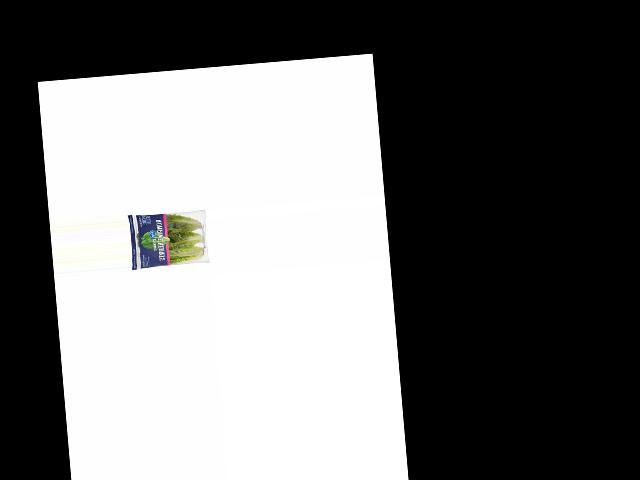lettuce: (129, 206, 207, 272)
